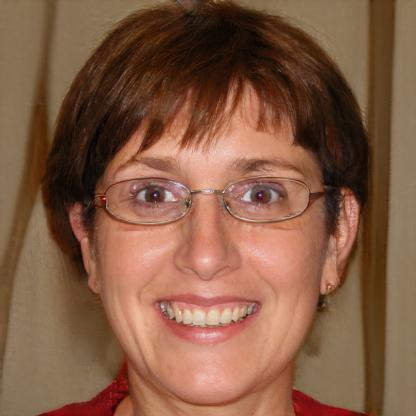glasses: (96, 174, 322, 236)
